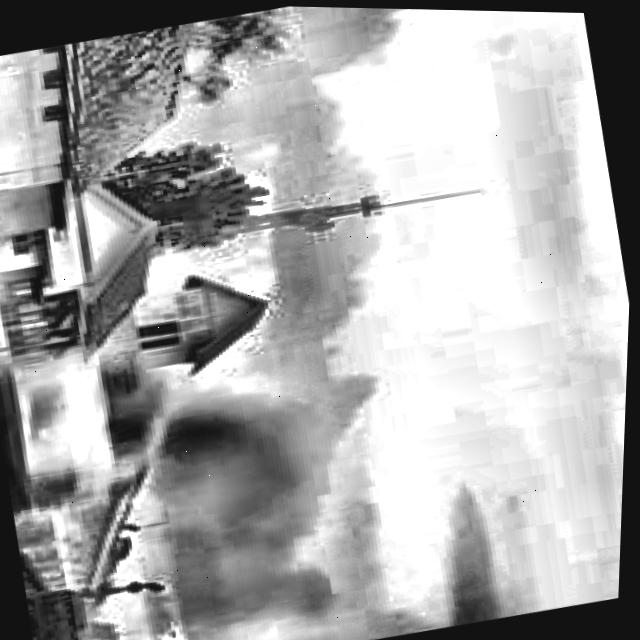Kereta: (11, 474, 166, 605)
Lokomotif: (0, 313, 227, 518)
